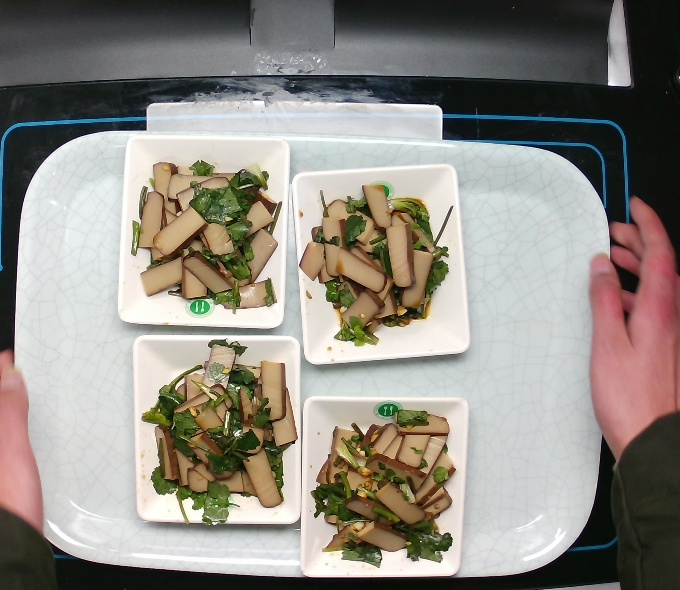wcq-JiDanGan: (136, 339, 302, 530), (298, 164, 456, 357), (117, 150, 284, 329), (316, 391, 465, 577)
